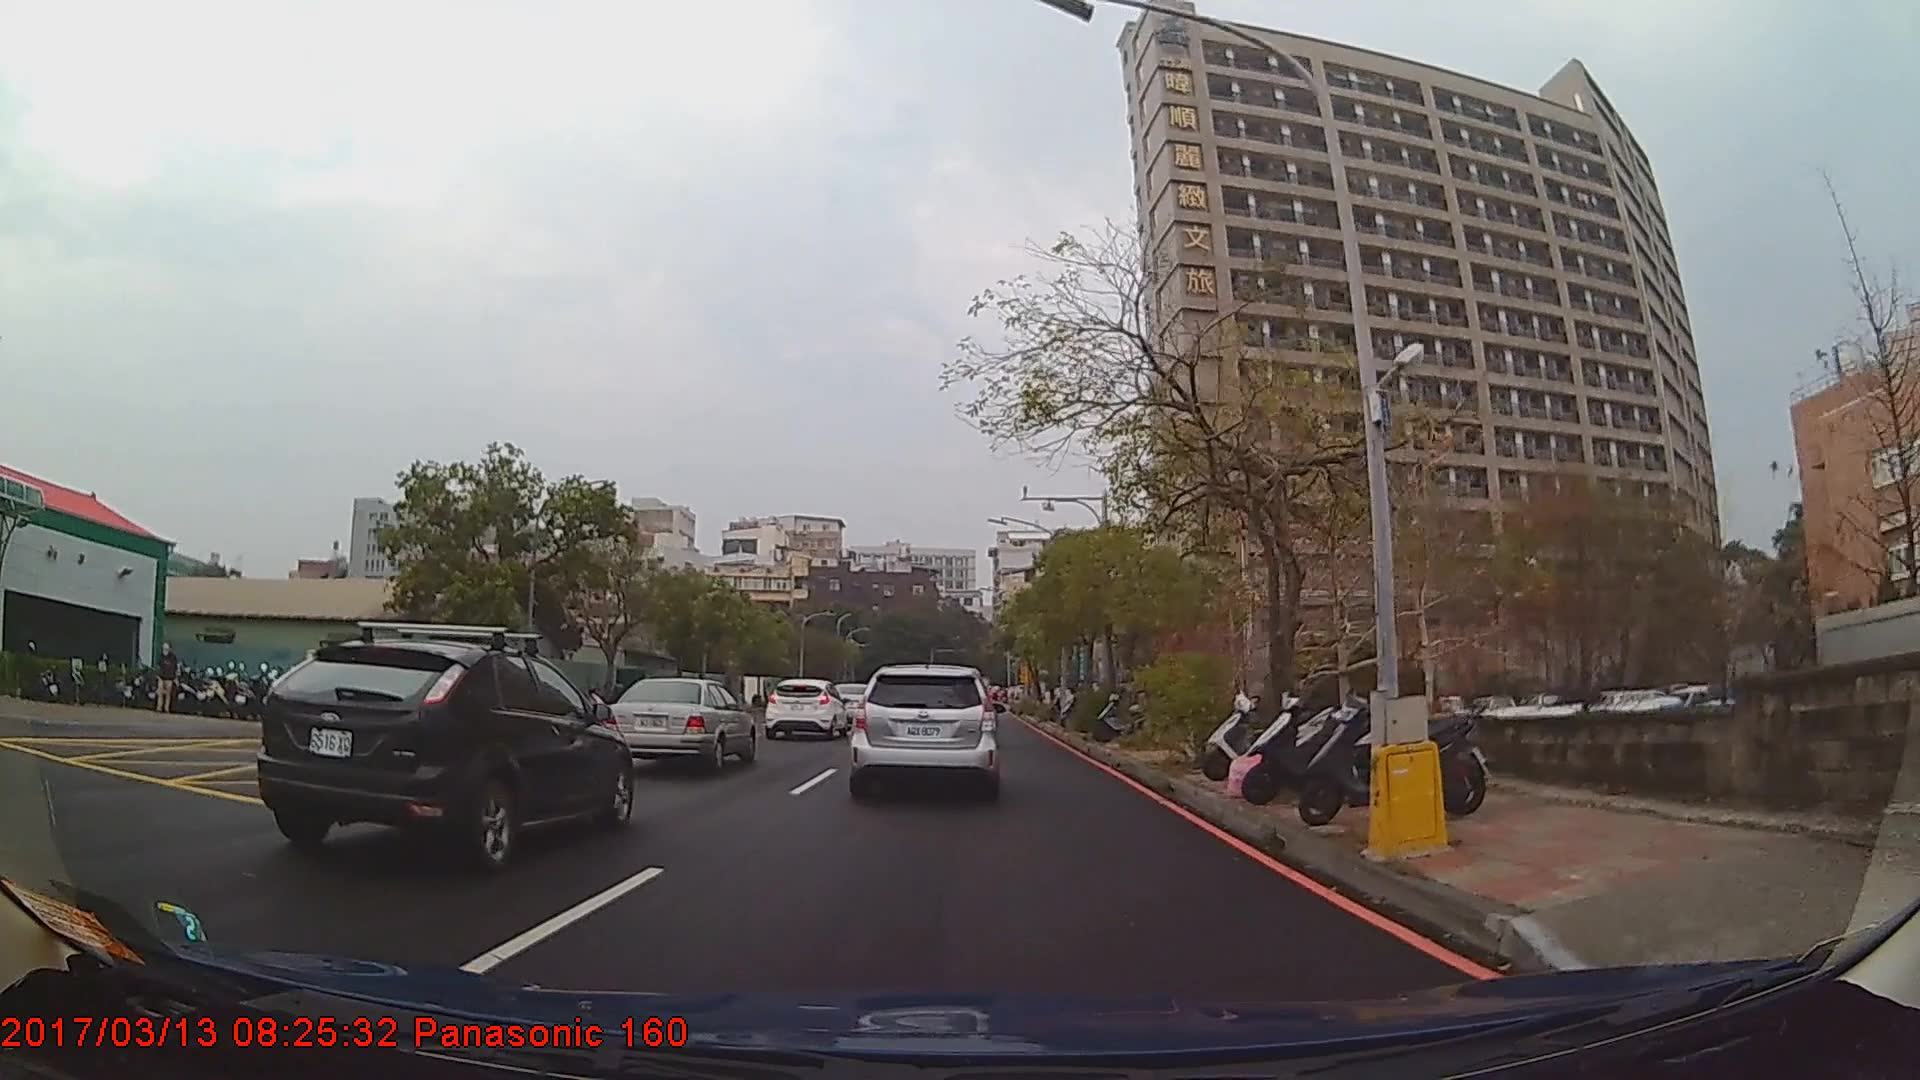pedestrian: (156, 642, 181, 716)
vehicle: (255, 637, 631, 863), (848, 660, 997, 799), (603, 676, 756, 772), (762, 676, 849, 738)
